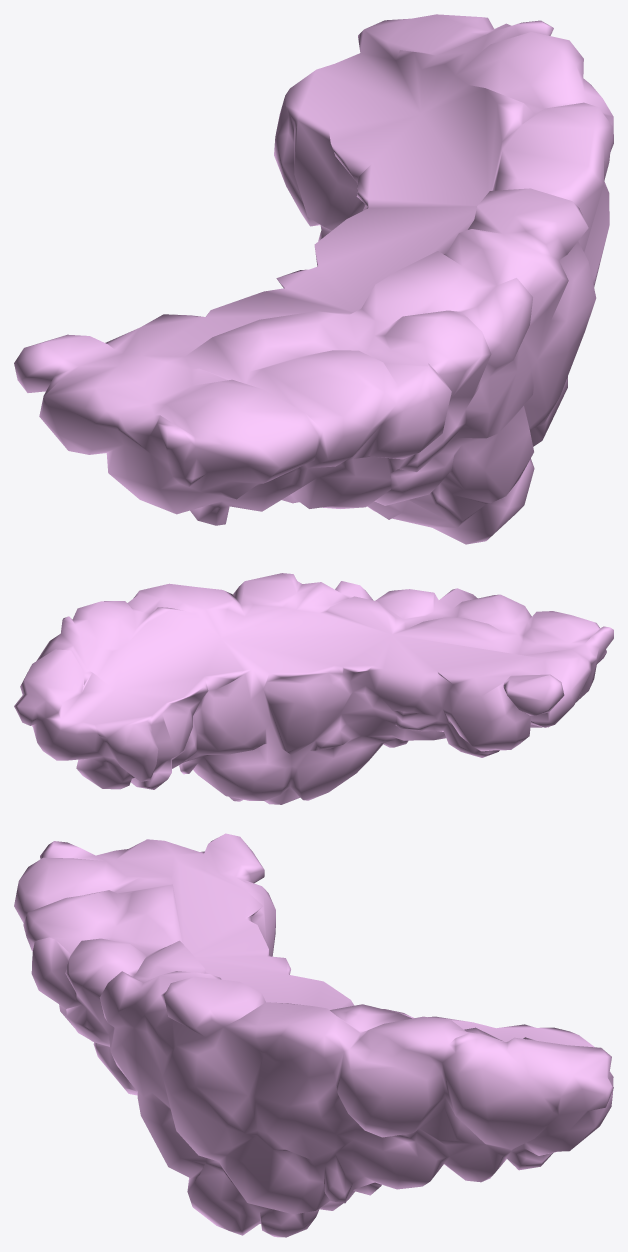
File: island_8_LOD4.fbx
3 renders of one model, top to bottom at view 1: azimuth 30°, elevation 25°; view 2: azimuth 150°, elevation 25°; view 3: azimuth 270°, elevation 25°, orthographic. The views are drawn at different scales.
Visible parts, largest first — view 1: island_8_LOD4; view 2: island_8_LOD4; view 3: island_8_LOD4.
Part boxes in pixels (x1,y1,x2,y2): island_8_LOD4: [14, 14, 613, 544]; island_8_LOD4: [14, 573, 613, 804]; island_8_LOD4: [14, 833, 613, 1237].
Bounding box in the file's own units: 2104 × 1034 × 2066.
